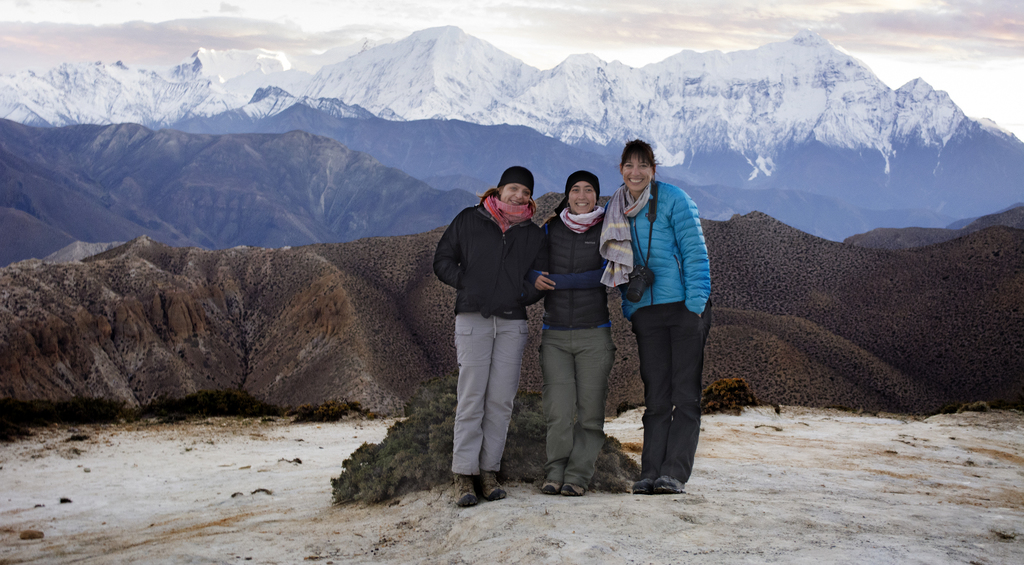Footwear: (476, 470, 509, 505), (458, 472, 480, 507), (652, 480, 684, 492), (541, 482, 561, 497), (568, 484, 584, 498), (628, 482, 650, 492)
